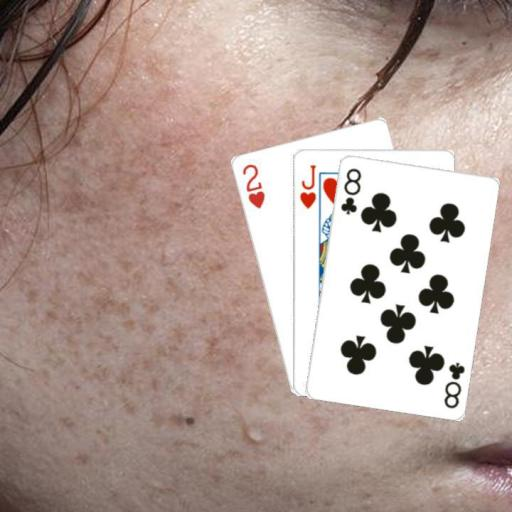2H: (238, 160, 266, 210)
8C: (440, 359, 467, 410), (337, 165, 363, 216)
JH: (296, 161, 316, 210)
